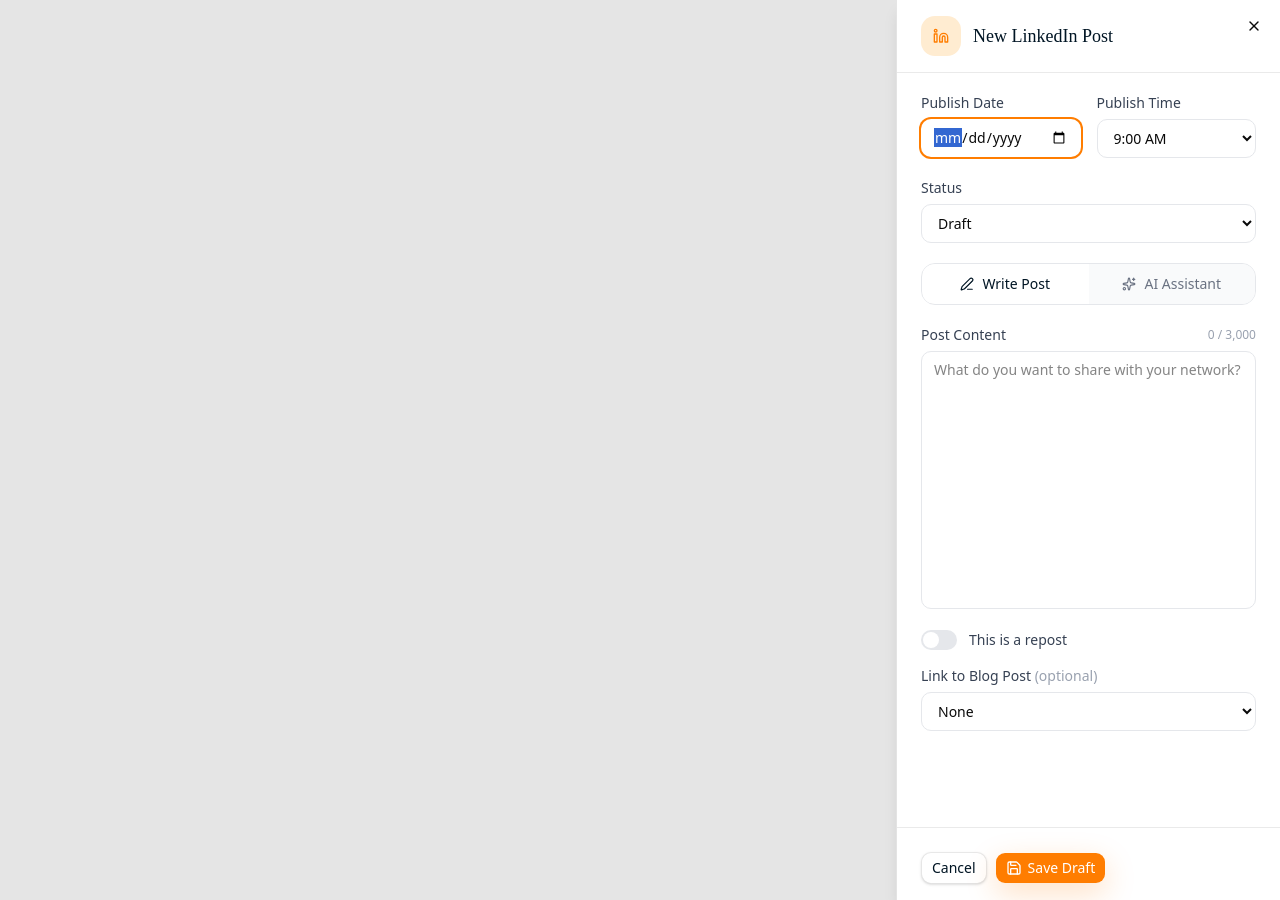
LinkedInPostEditor › updates character counter as user types
Type "Hello" into the text box.
click(1088, 480); type("Hello")  # box [921, 351, 1256, 609]
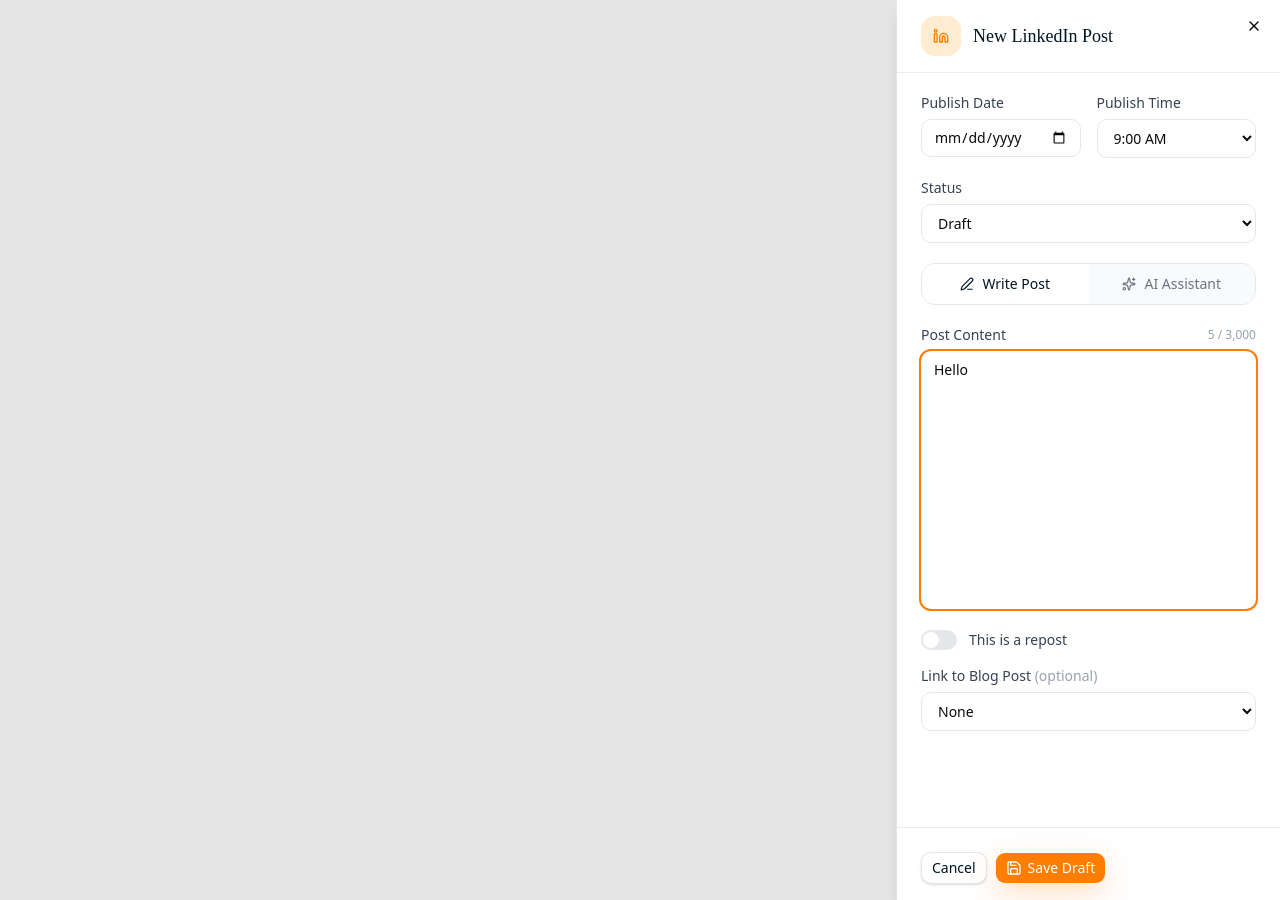
Expected: the text "5 / 3,000" is shown, [1208, 327, 1256, 343]
